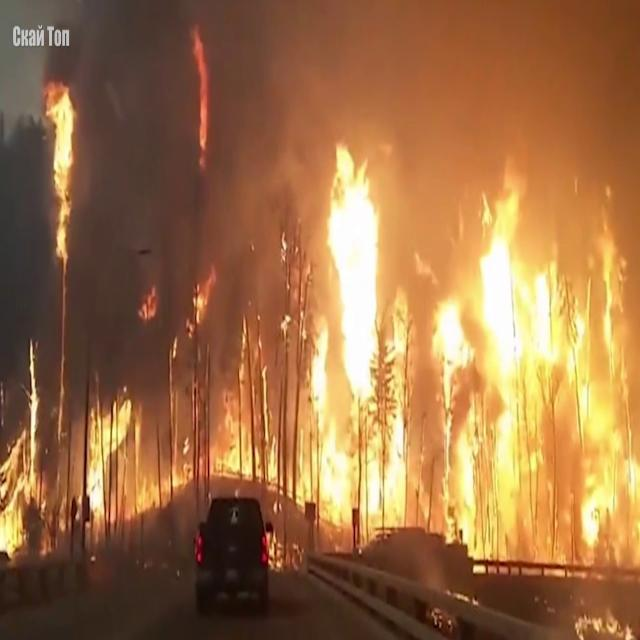Fire: (432, 143, 638, 557), (298, 138, 405, 542), (187, 305, 283, 491), (78, 376, 165, 534), (0, 336, 46, 565), (42, 72, 80, 274)
Smoke: (111, 0, 640, 316)
